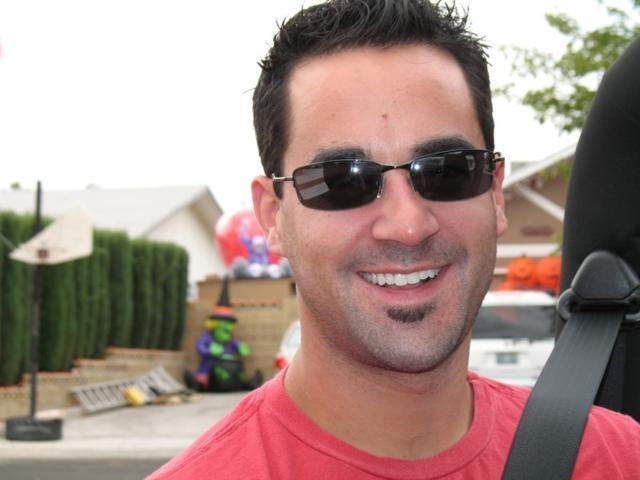SafeDriving: (298, 151, 380, 202), (411, 158, 480, 207)
Seatbelt: (503, 313, 621, 479)
